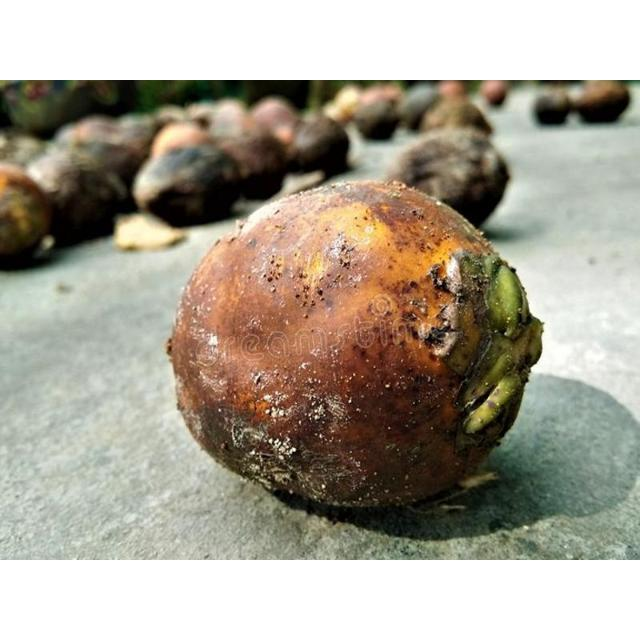damaged: (167, 181, 544, 517)
